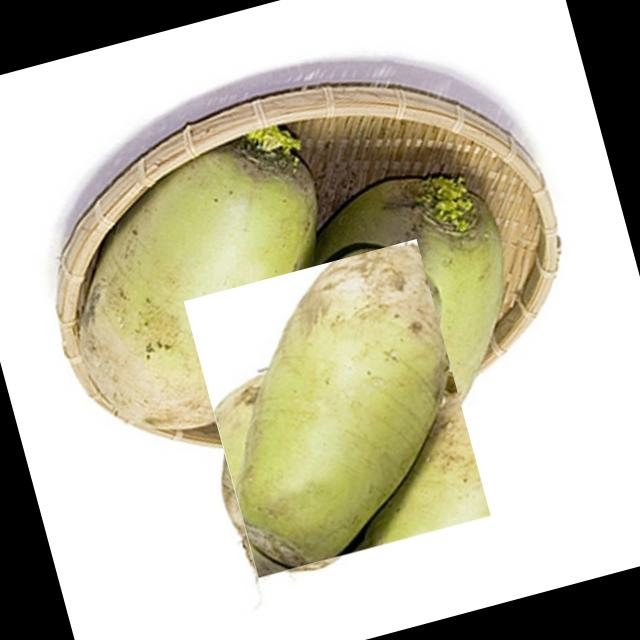radish: (184, 238, 491, 578)
